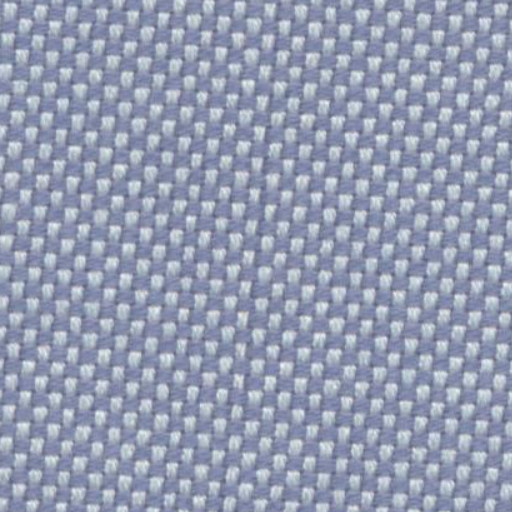TuoSha: (206, 36, 299, 510)
